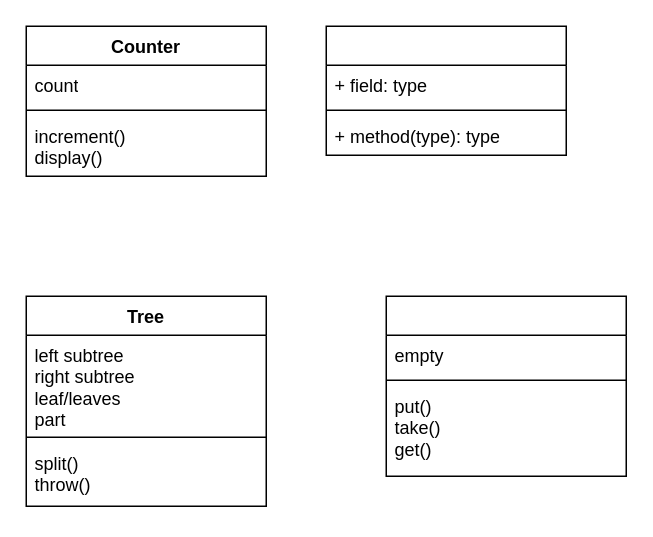
Image size: 653x537. Some labels were removed from this diagram. Each missing label, with the box of its shape:
Leaf: (325, 25, 566, 155)
Pile: (385, 295, 626, 476)
